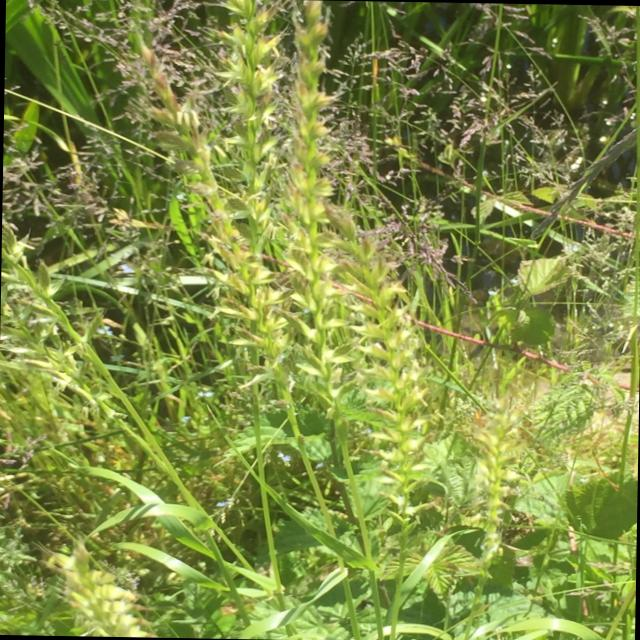Lolium: (281, 2, 383, 578), (333, 214, 422, 546), (454, 364, 526, 596)
